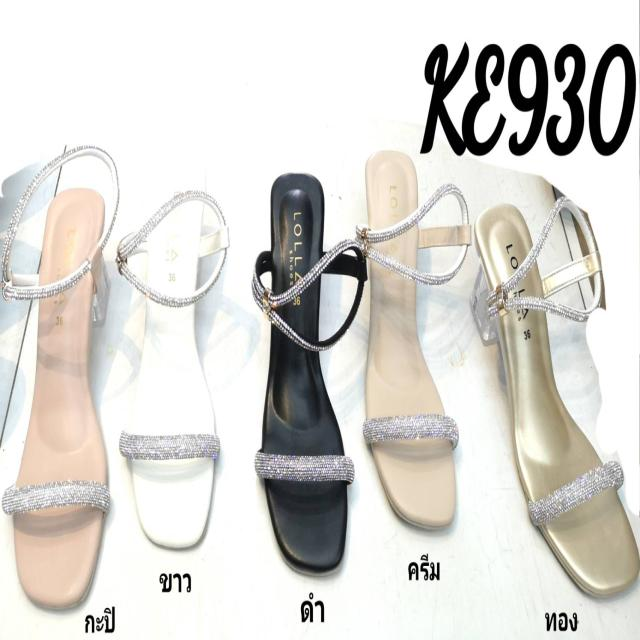black: (265, 167, 346, 566)
cream: (365, 146, 456, 534)
gold: (478, 214, 638, 597)
kapi: (15, 186, 104, 611)
white: (129, 167, 214, 548)
